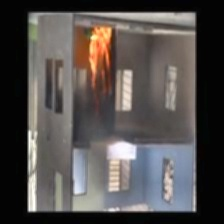fire: (83, 23, 114, 102)
